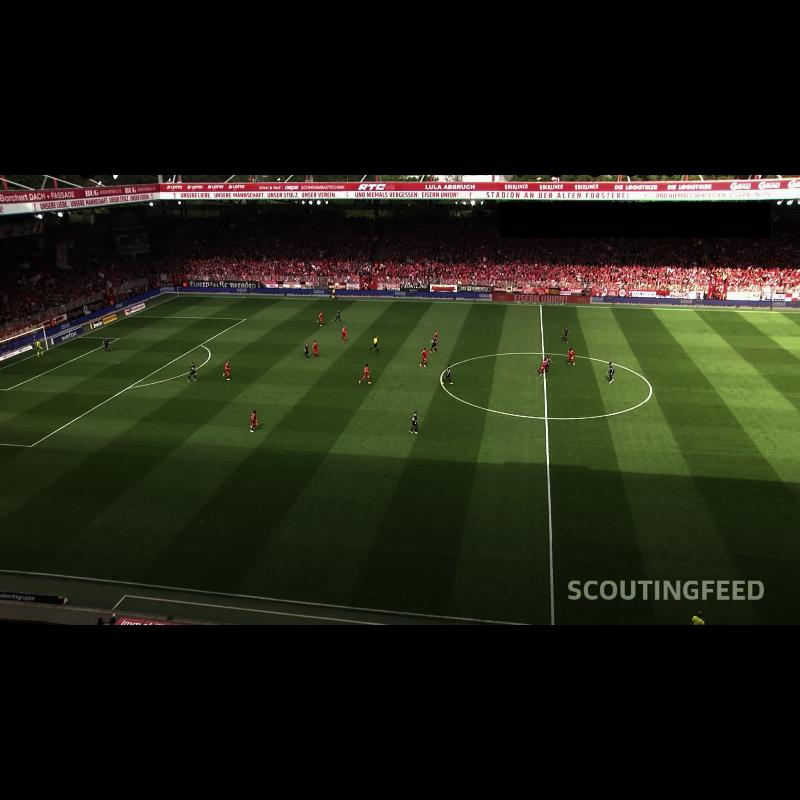cross_recipient_zone: (0, 316, 244, 446)
crossing_player_zone: (0, 444, 166, 572), (131, 296, 356, 322), (736, 311, 800, 336)
pitch: (0, 296, 800, 625)
